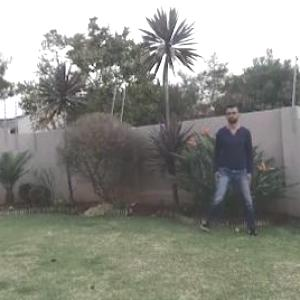follow: (214, 99, 253, 232)
